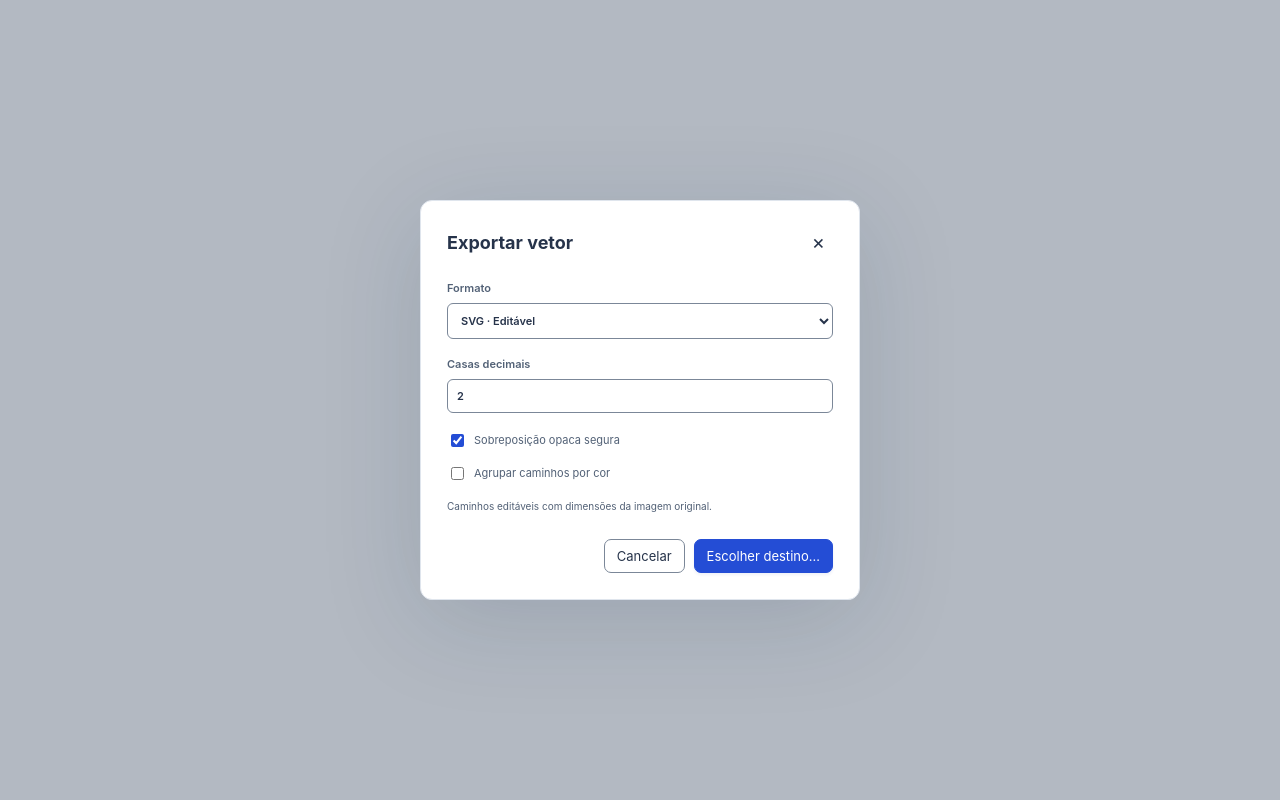
Test: color grouping selects exact stacking instead of changing paint order silently
The image size is (1280, 800).
Click the checkbox labelled "Agrupar caminhos por cor" at (458, 474), box [451,467,464,480]
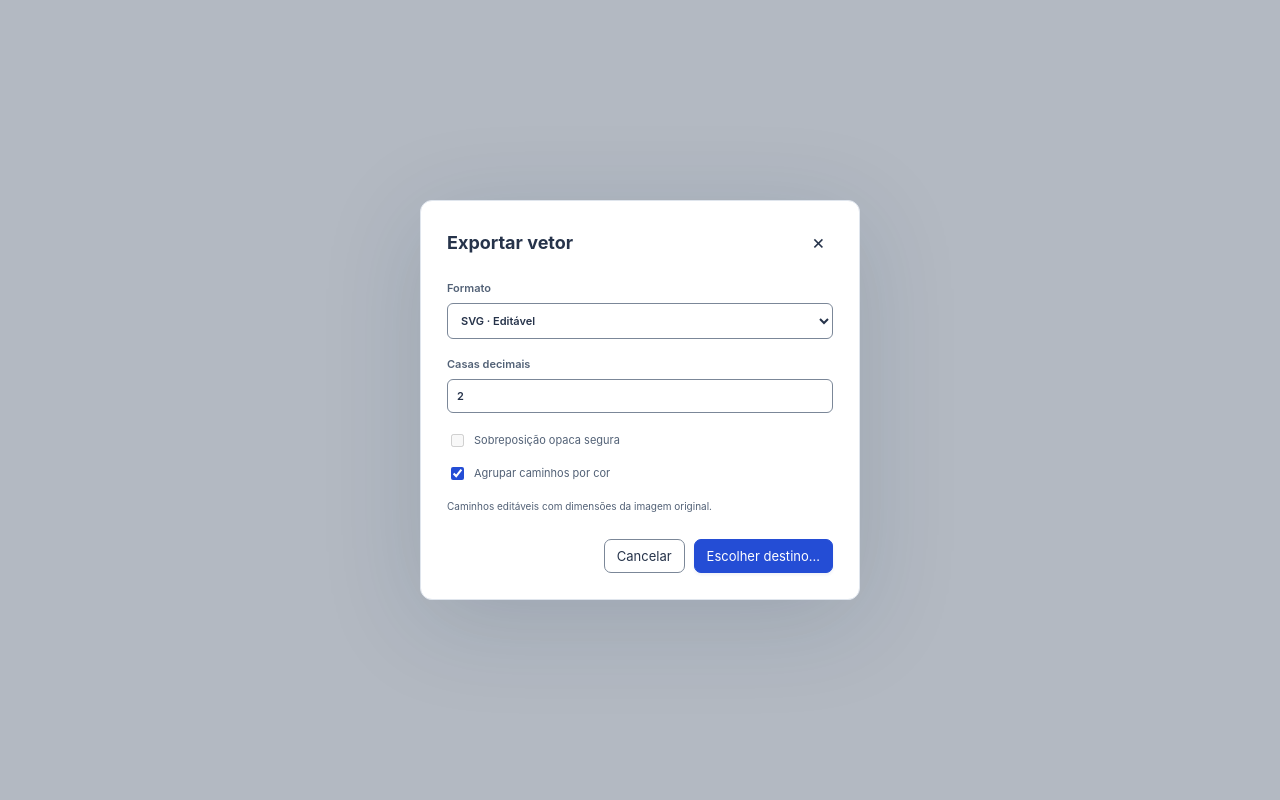
Now the checkbox labelled "Sobreposição opaca segura" is not checked, box [451,434,464,447]
Now the checkbox labelled "Sobreposição opaca segura" is disabled, box [451,434,464,447]
